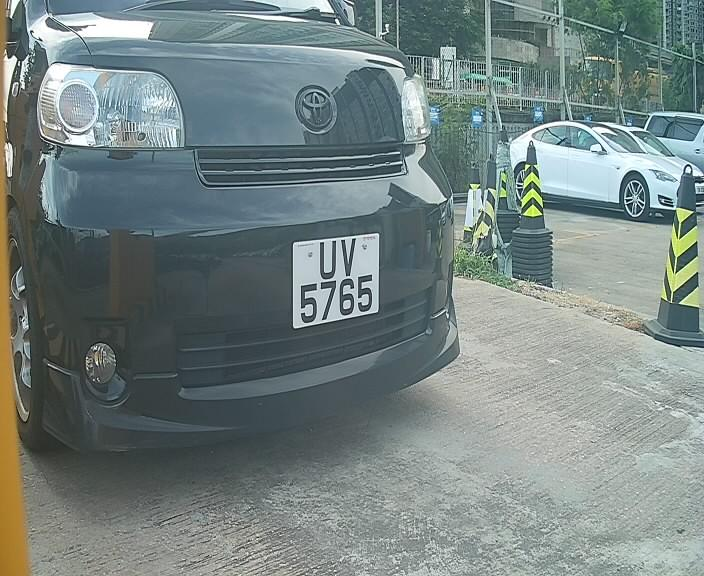License Plate: (283, 222, 387, 343)
